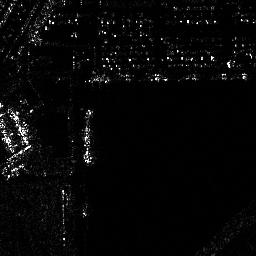ship: (81, 109, 94, 165)
